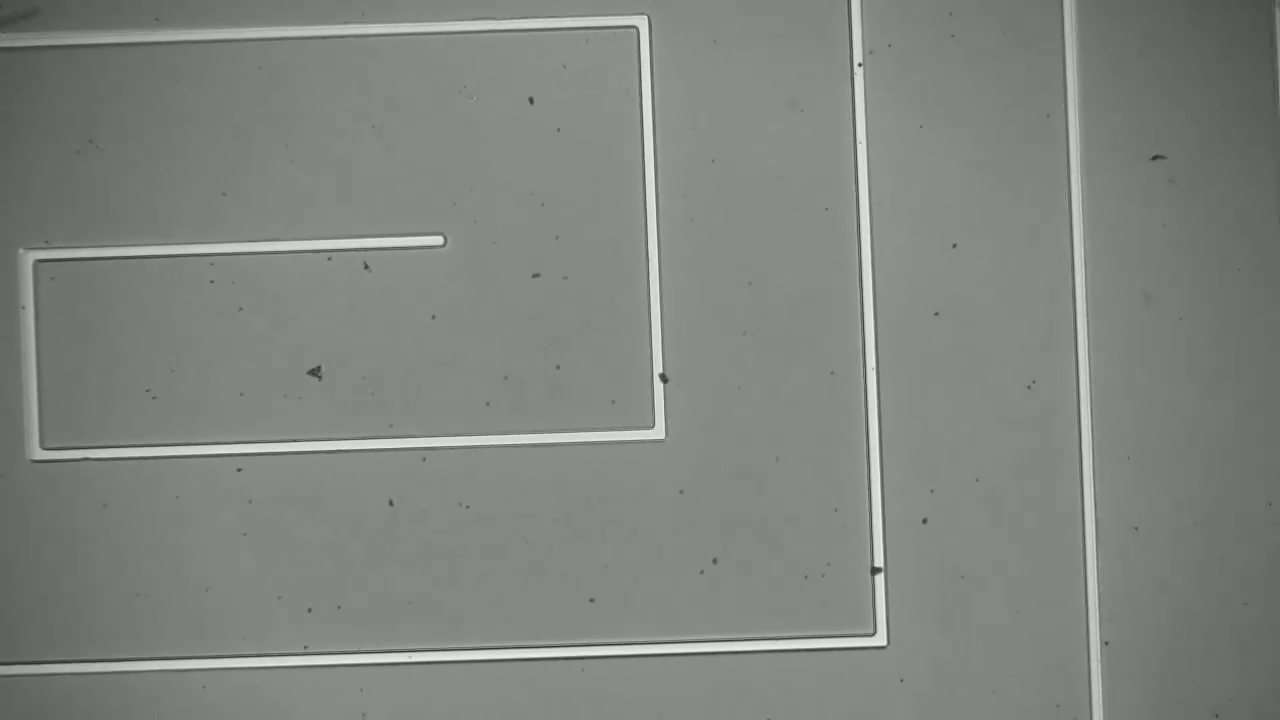stains_enbedded: (862, 556, 897, 585)
